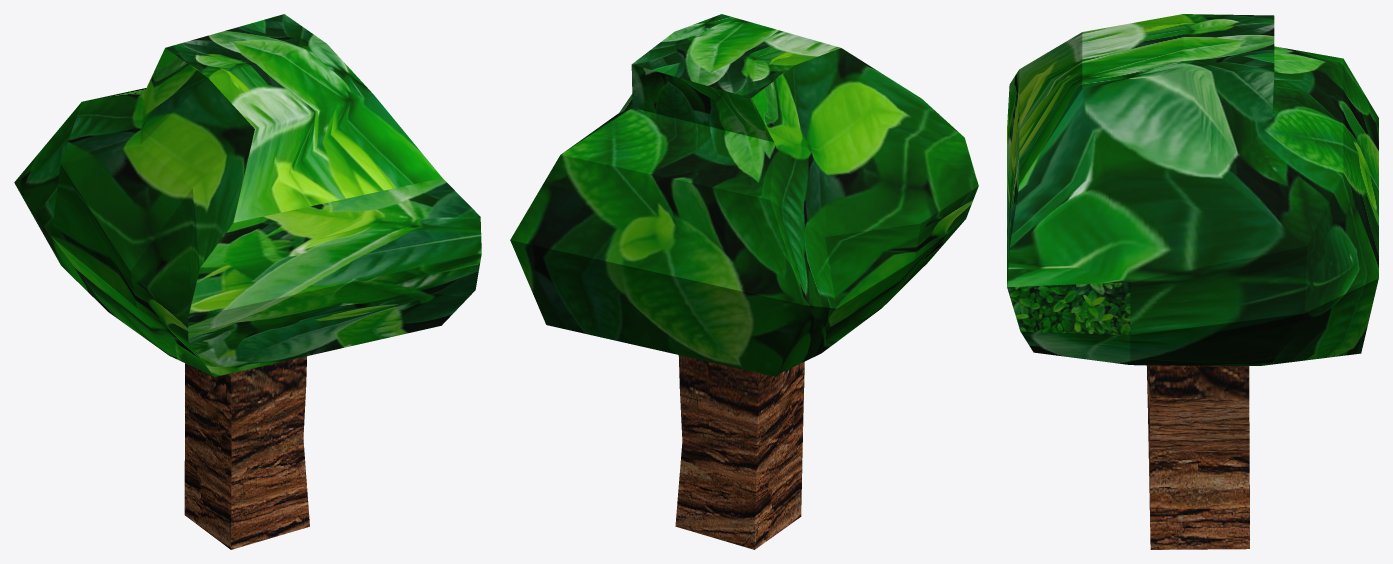
File: tree.fbx
The picture shows the model from 3 angles, left to right: view 1: azimuth 30°, elevation 25°; view 2: azimuth 150°, elevation 25°; view 3: azimuth 270°, elevation 25°; orthographic projection. The views are drawn at different scales.
Visible parts, largest first — view 1: leaves.001; view 2: leaves.001; view 3: leaves.001.
Boxes of the visible parts, left/top/right/bottom form: leaves.001: left=14, top=14, right=481, bottom=549; leaves.001: left=510, top=14, right=978, bottom=549; leaves.001: left=1007, top=14, right=1378, bottom=549.
Bounding box in the file's own units: 298 × 454 × 306.
Materials: 2 (2 with a texture image).
